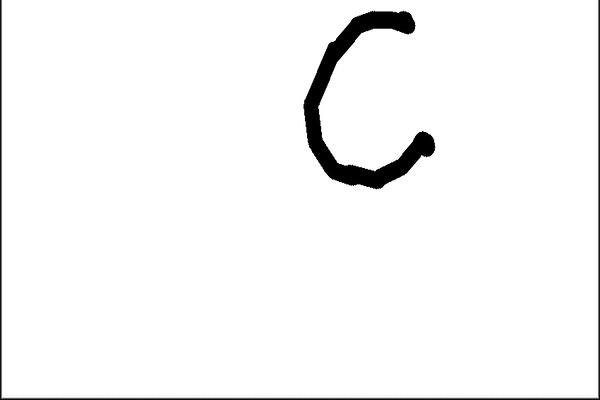C: (299, 4, 440, 191)
